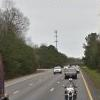Motorcycle: (59, 76, 84, 100)
